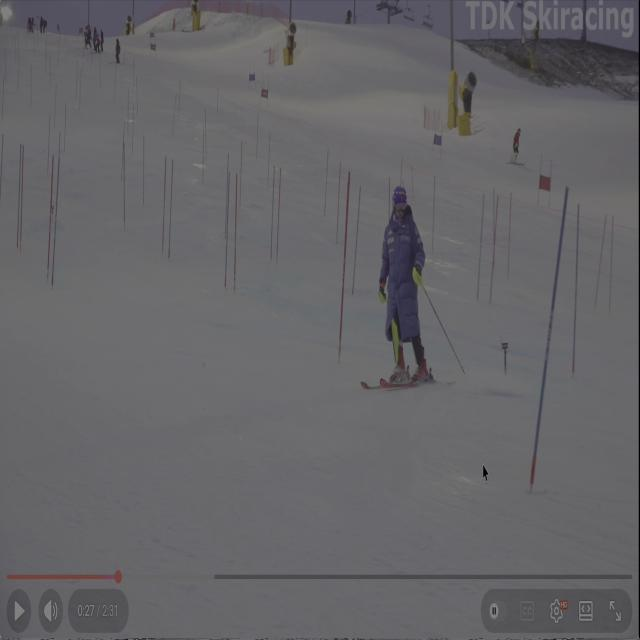gate: (517, 178, 567, 523), (339, 158, 352, 388), (571, 204, 581, 378)
